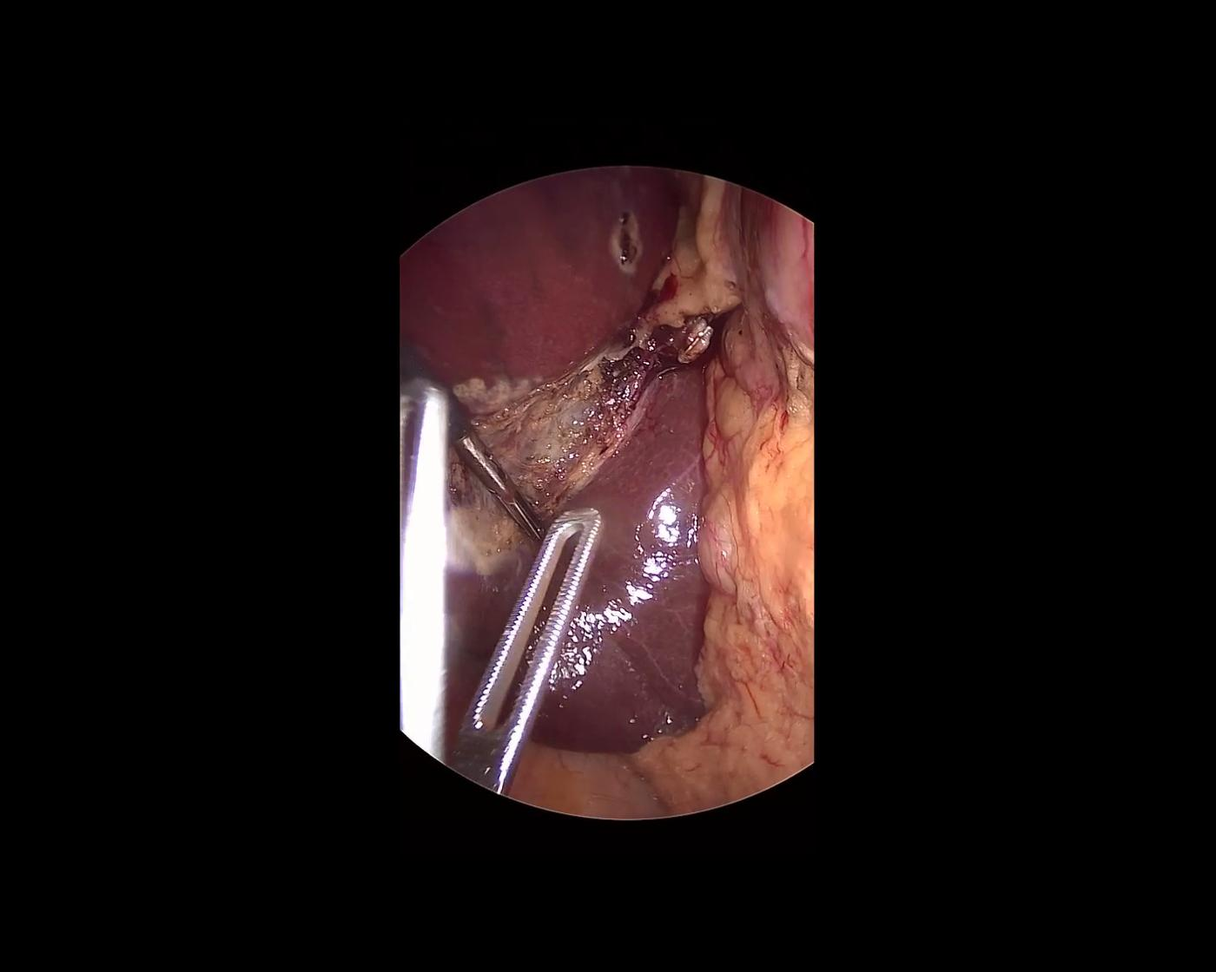Forceps: (400, 375, 604, 797), (377, 327, 551, 551)
Liver: (447, 367, 711, 750), (384, 157, 700, 397)
